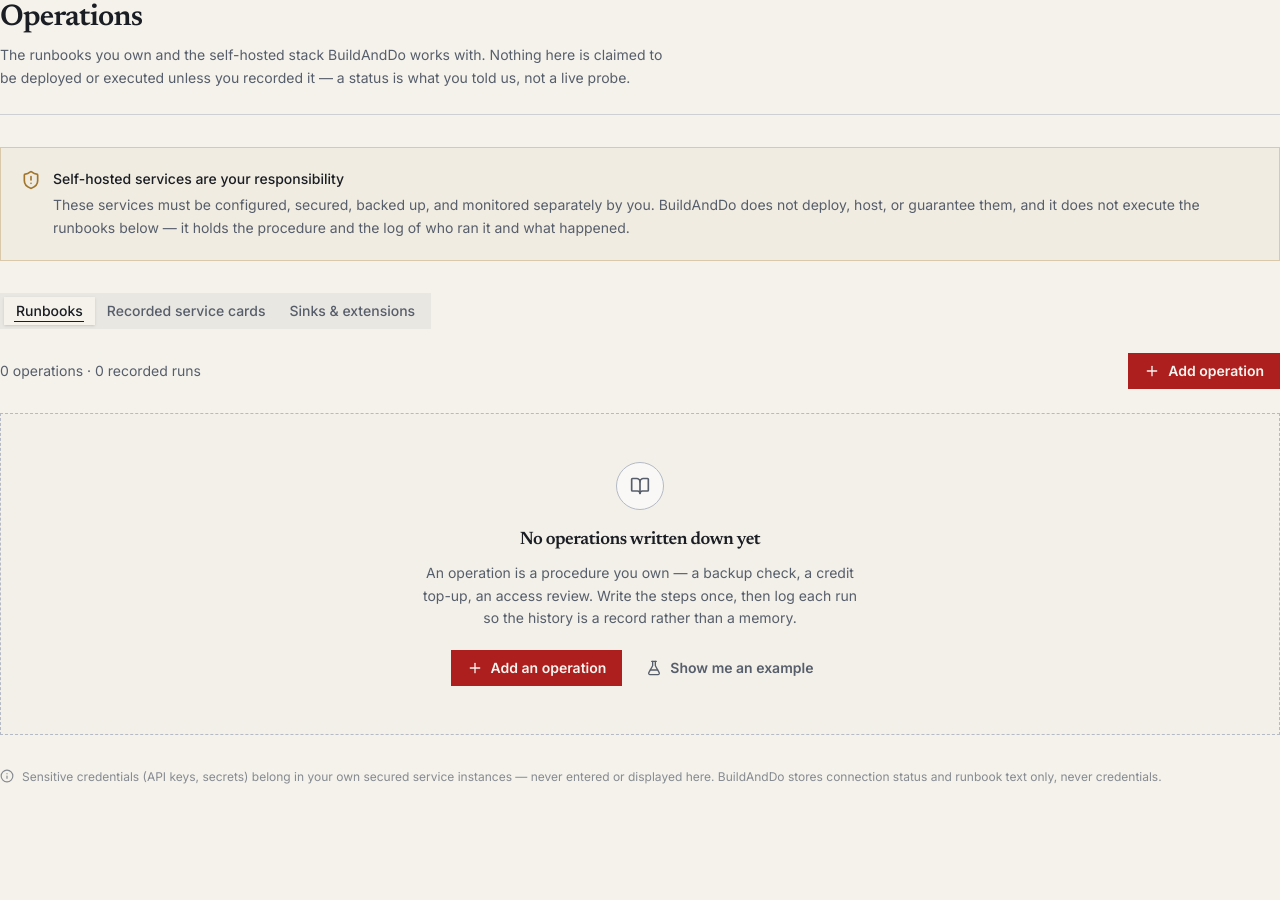
operations desk › records an operation only after the backend accepts it
Step 1. Click the button "Add operation" → (1204, 371), box [1128,353,1279,389]
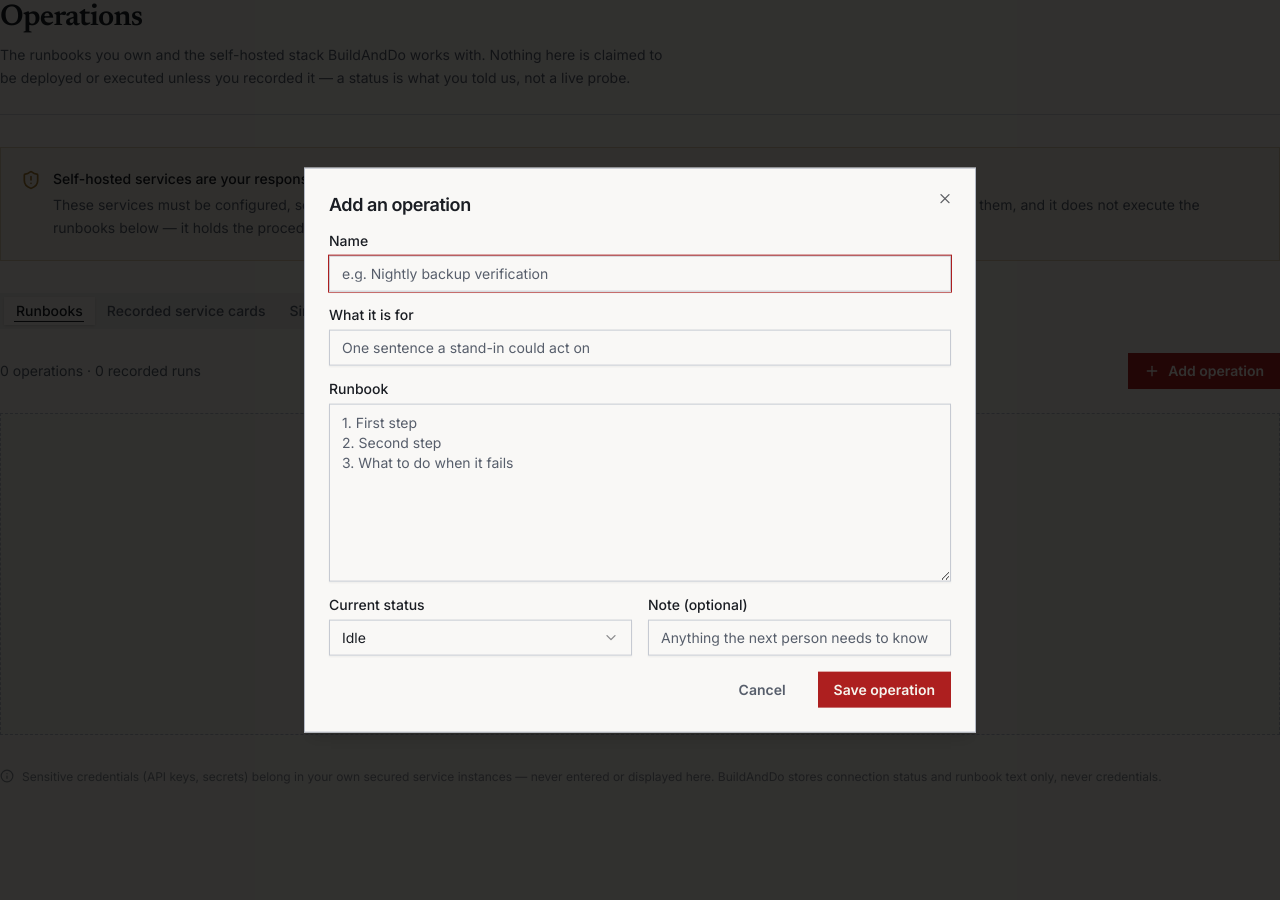
Step 2. Type "Weekly appointment check" into the field labelled "Name" → (640, 273), box [329,255,951,291]
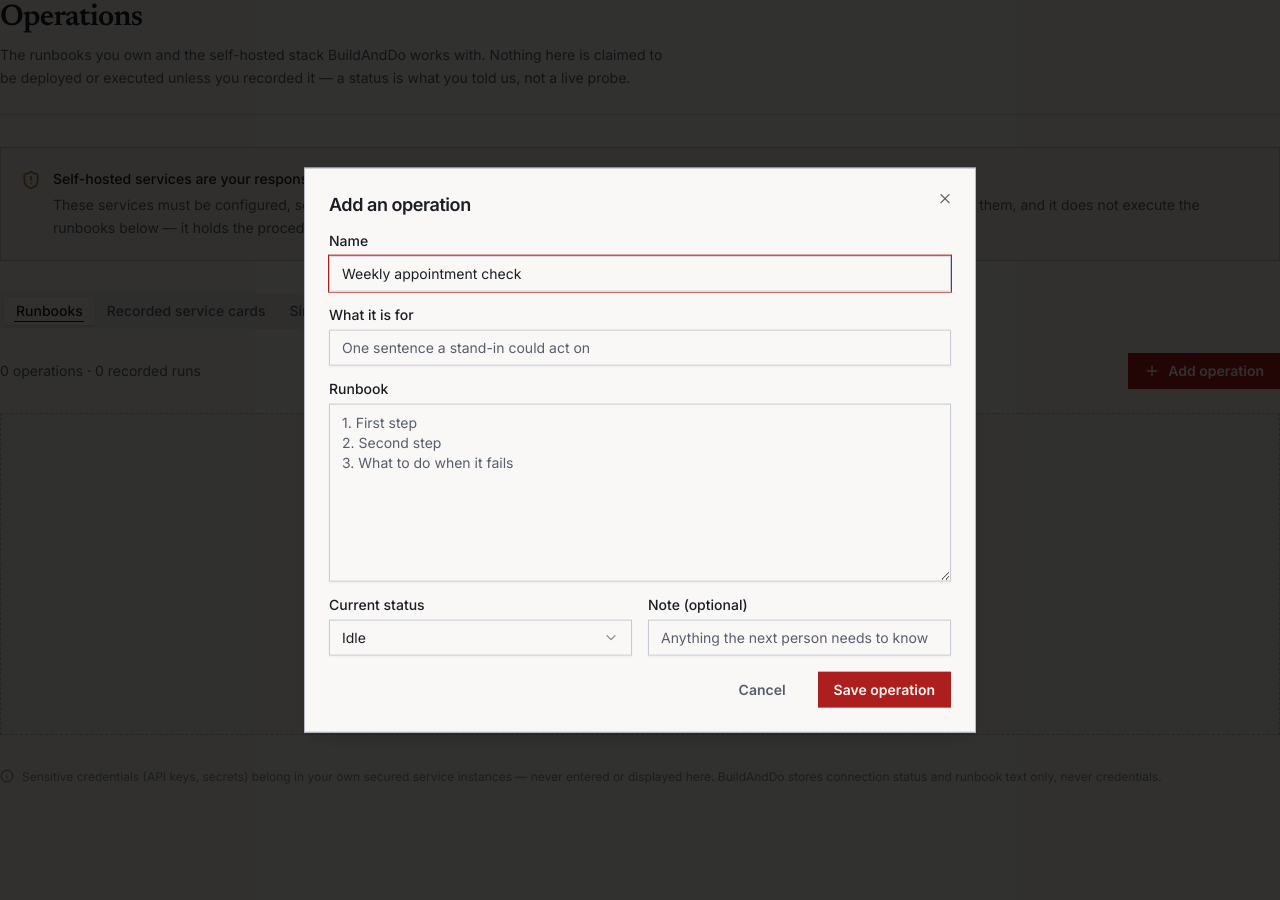
Step 3. Click the button "Save operation" → (884, 689), box [818,671,951,707]
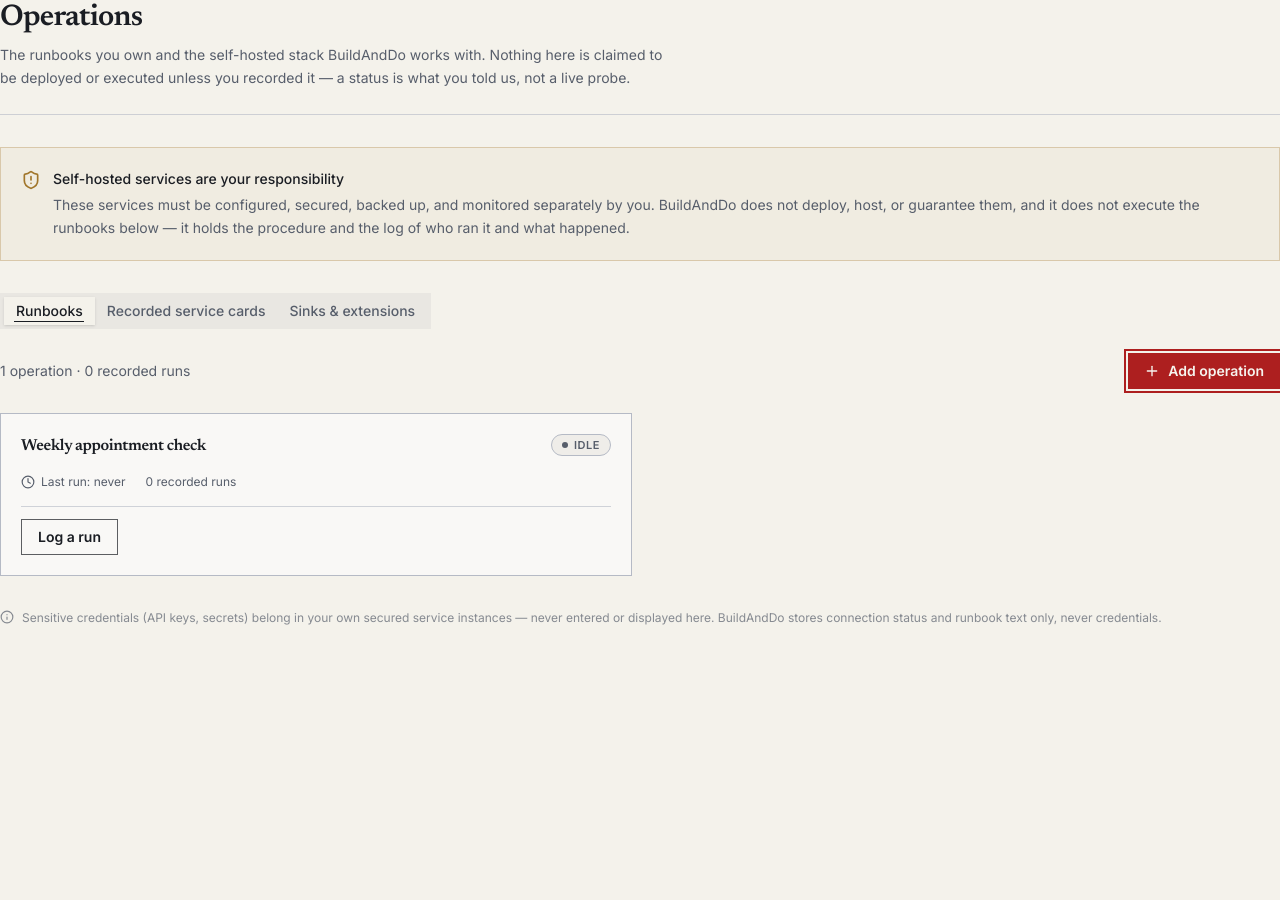
Result: the dialog is gone
Result: the text "Weekly appointment check" is shown at [21,434,206,458]
